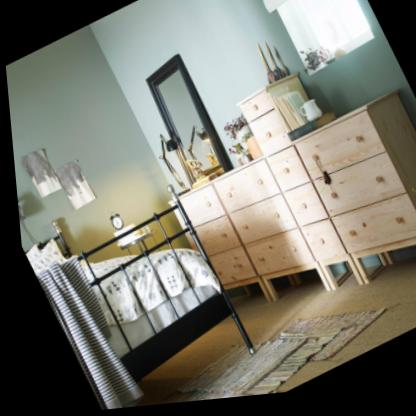Bed: (20, 201, 246, 411)
Carpet: (362, 269, 416, 354)
Sideboard: (171, 100, 416, 310)
